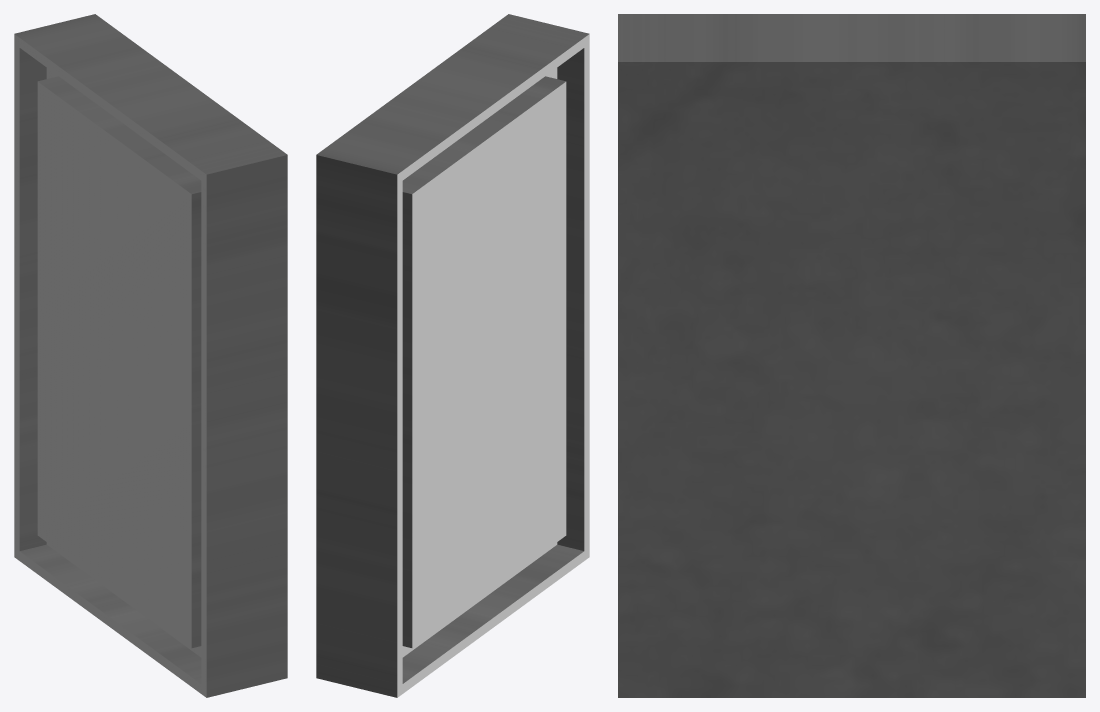
The model's file is button_dead.obj.
The picture shows the model from 3 angles, left to right: view 1: azimuth 30°, elevation 25°; view 2: azimuth 150°, elevation 25°; view 3: azimuth 270°, elevation 25°; orthographic projection. The views are drawn at different scales.
Visible parts, largest first — view 1: M_PaintMetal, M_Green, M_BrushedMetal; view 2: M_PaintMetal, M_Green, M_BrushedMetal; view 3: M_PaintMetal.
Part boxes in pixels (x1,y1,x2,y2): M_PaintMetal: (14,14,287,697); M_Green: (37,82,191,647); M_BrushedMetal: (14,34,206,697); M_PaintMetal: (316,14,589,697); M_Green: (412,82,566,647); M_BrushedMetal: (397,34,589,697); M_PaintMetal: (618,14,1085,697).
Bounding box in the file's own units: 0.0203 × 0.125 × 0.0833.
3 materials, 1 textured.
